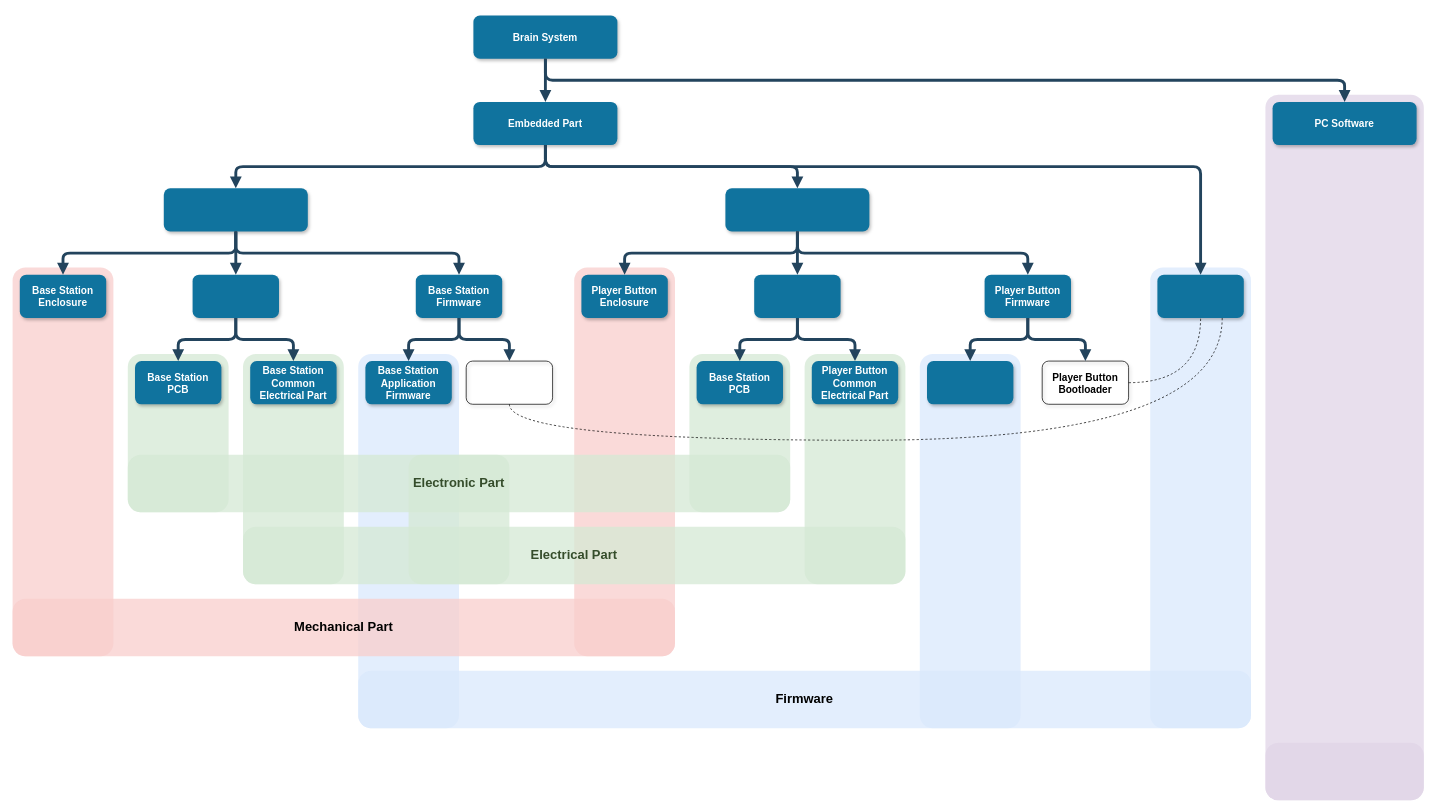
Image size: 1436x812. Some labels were removed from this diagram. The shapes that lost their labels are listed below. From the top down, each one's centre as x and y in pixels, then its label:
the point at 236,210: Base Station
the point at 797,210: Player Button
the point at 236,297: Base Station Electrical Part
the point at 798,297: Player Button Electrical Part
the point at 1201,297: Bootloader
the point at 510,383: Base Station Bootloader
the point at 970,383: Player Button Application Firmware
the point at 1344,771: Software
